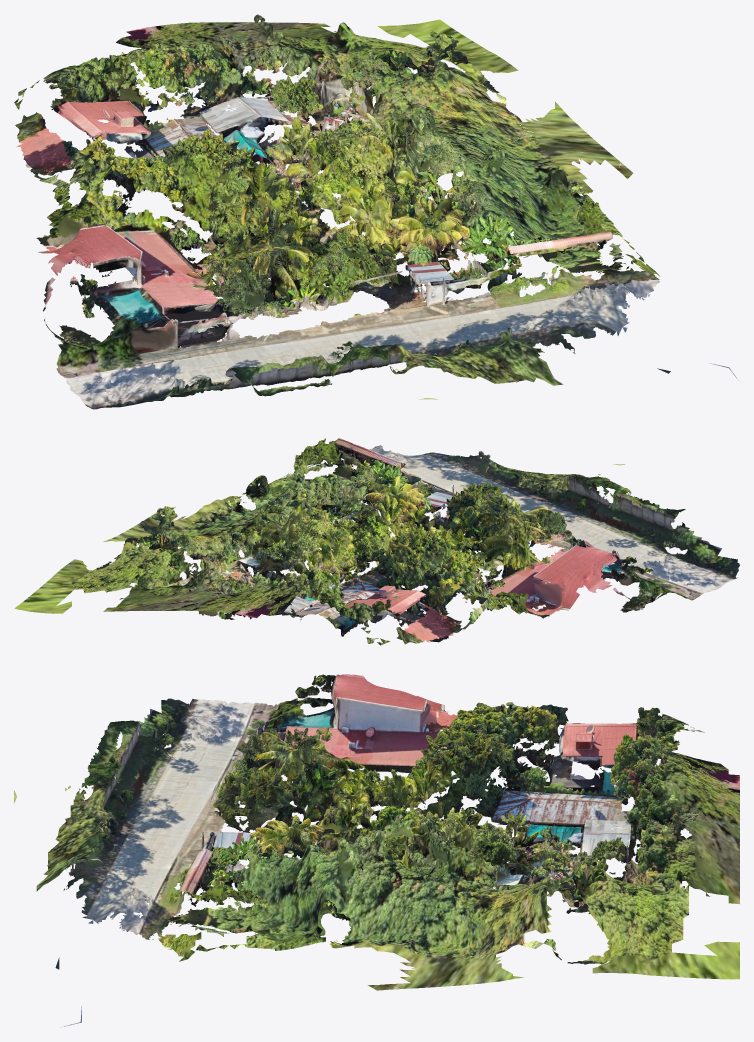
The model's file is casa.glb.
The picture shows the model from 3 angles, top to bottom: view 1: azimuth 30°, elevation 25°; view 2: azimuth 150°, elevation 25°; view 3: azimuth 270°, elevation 25°; orthographic projection. The views are drawn at different scales.
Size of the model in its own units: 77.31 by 19.93 by 80.3.
Materials: 55 (55 with a texture image).
